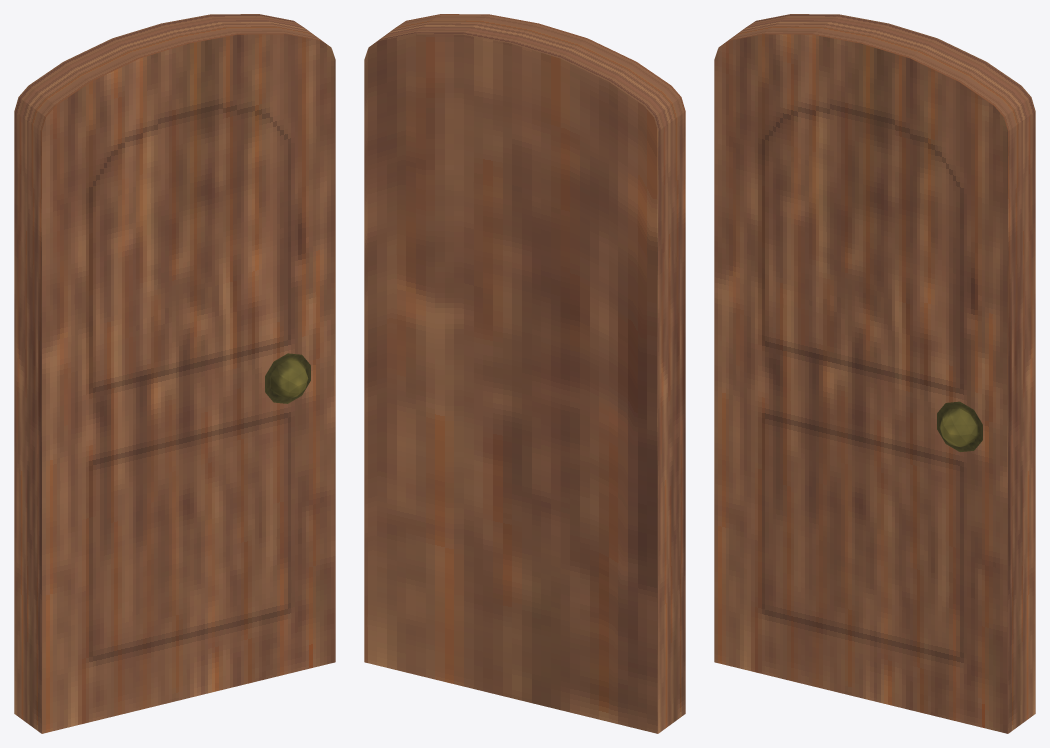
The model's file is Puerta.glb.
3 views of the same model, side by side, from view 1: azimuth 30°, elevation 25°; view 2: azimuth 150°, elevation 25°; view 3: azimuth 330°, elevation 25° (orthographic).
Parts seen in each view (by area): view 1: Puerta; view 2: Puerta; view 3: Puerta.
Part boxes in pixels (bbox=[...]): Puerta: bbox=[14, 14, 335, 733]; Puerta: bbox=[364, 14, 685, 733]; Puerta: bbox=[714, 14, 1035, 733].
Size of the model in its own units: 3.63 by 7.72 by 0.8115.
2 materials, 2 textured.
